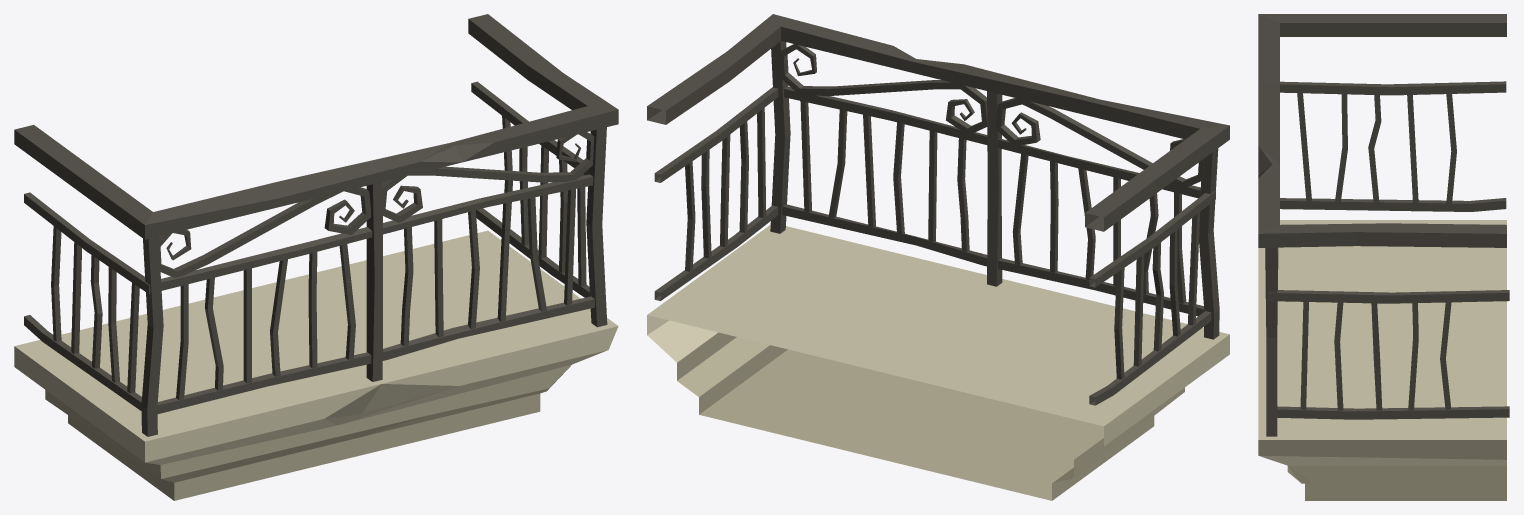
The model's file is Balcony_2.fbx.
The picture shows the model from 3 angles, left to right: view 1: azimuth 30°, elevation 25°; view 2: azimuth 150°, elevation 25°; view 3: azimuth 270°, elevation 25°; orthographic projection. The views are drawn at different scales.
Visible parts, largest first — view 1: Balcony_2; view 2: Balcony_2; view 3: Balcony_2.
Boxes of the visible parts, bbox=[...] form: Balcony_2: bbox=[14, 14, 618, 500]; Balcony_2: bbox=[647, 14, 1229, 500]; Balcony_2: bbox=[1258, 14, 1509, 500].
Bounding box in the file's own units: 233 × 144 × 112.
